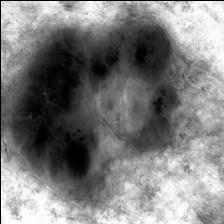Potentially Malignant Skin Tumors: (6, 18, 184, 204)
